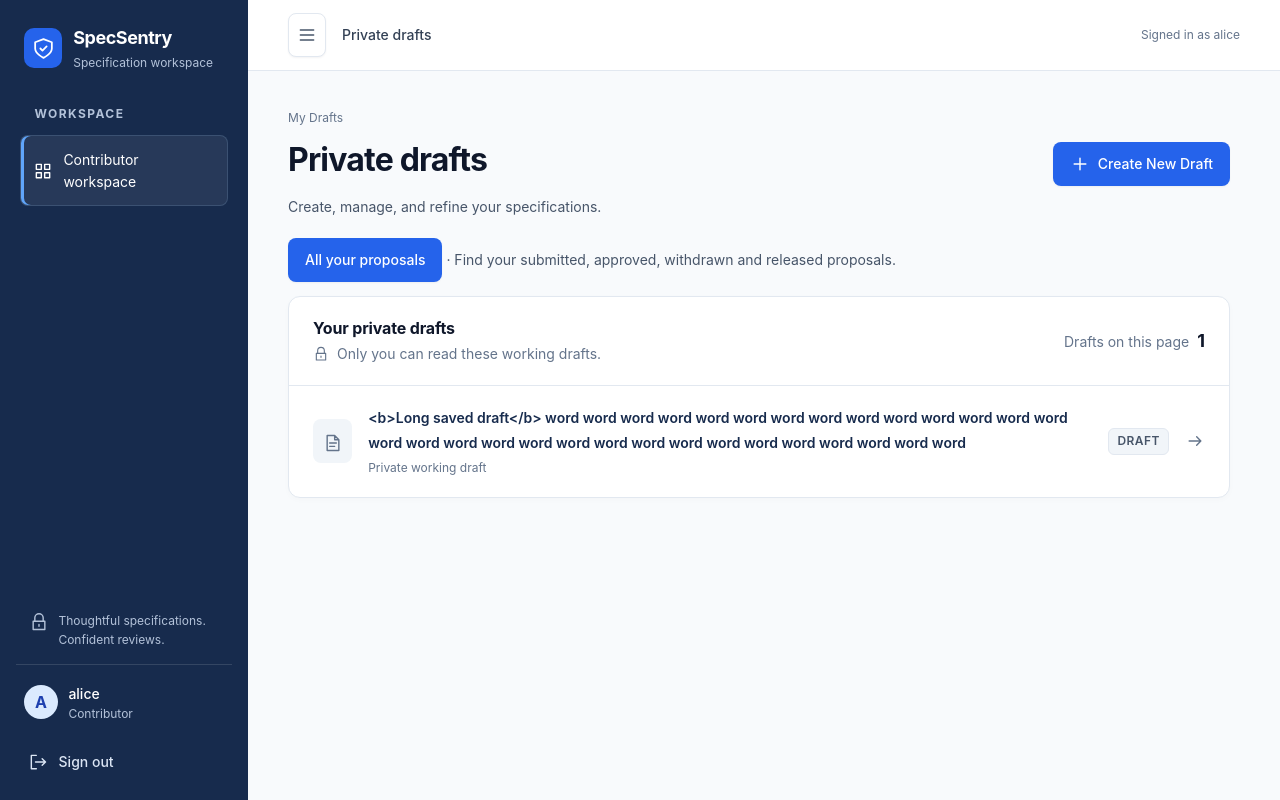
Phase 2 navigation refinement › makes the complete primary row a single descriptive link with no nested controls
The width and height of the screenshot is (1280, 800).
Click the link with aria-label "<b>Long saved draft</b> word word word word word word word w".
click(759, 442)  # box [313,409,1205,475]
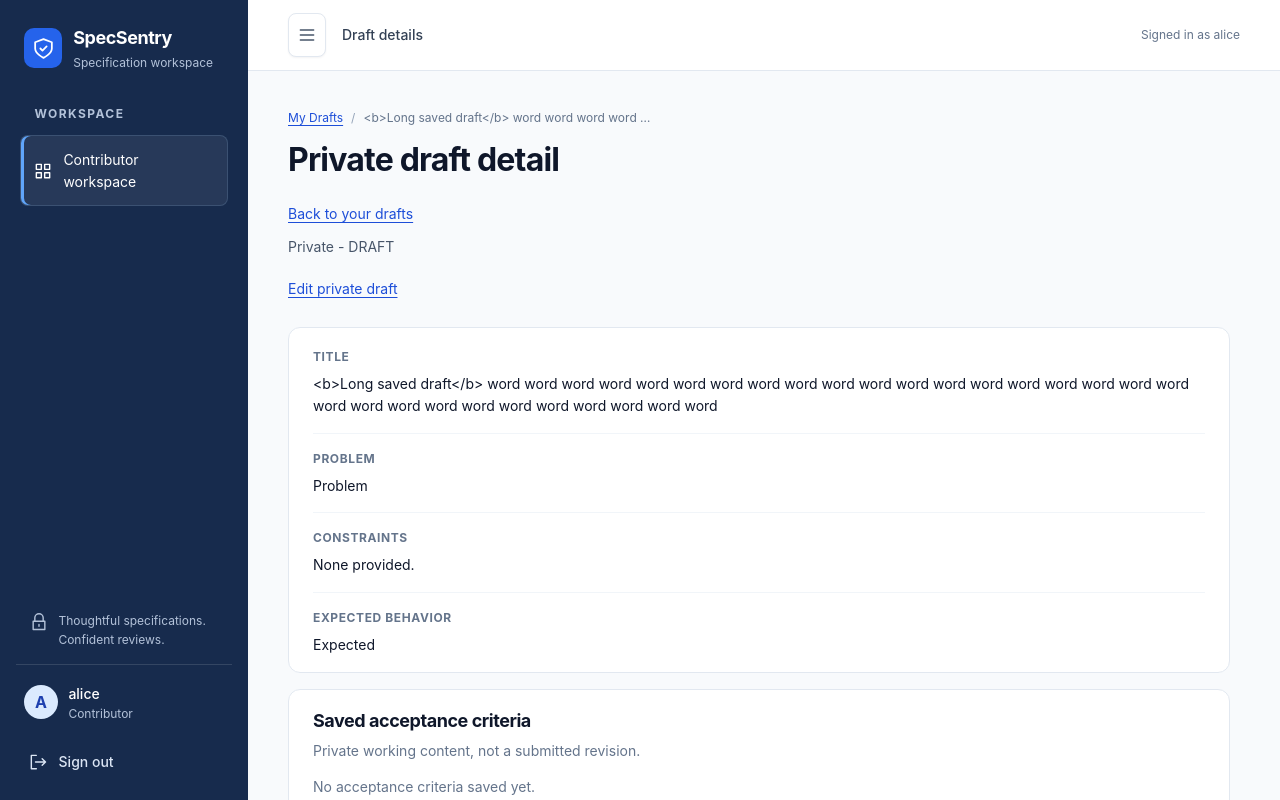
Result: the heading "Private draft detail" is shown at [288,140,559,179]
